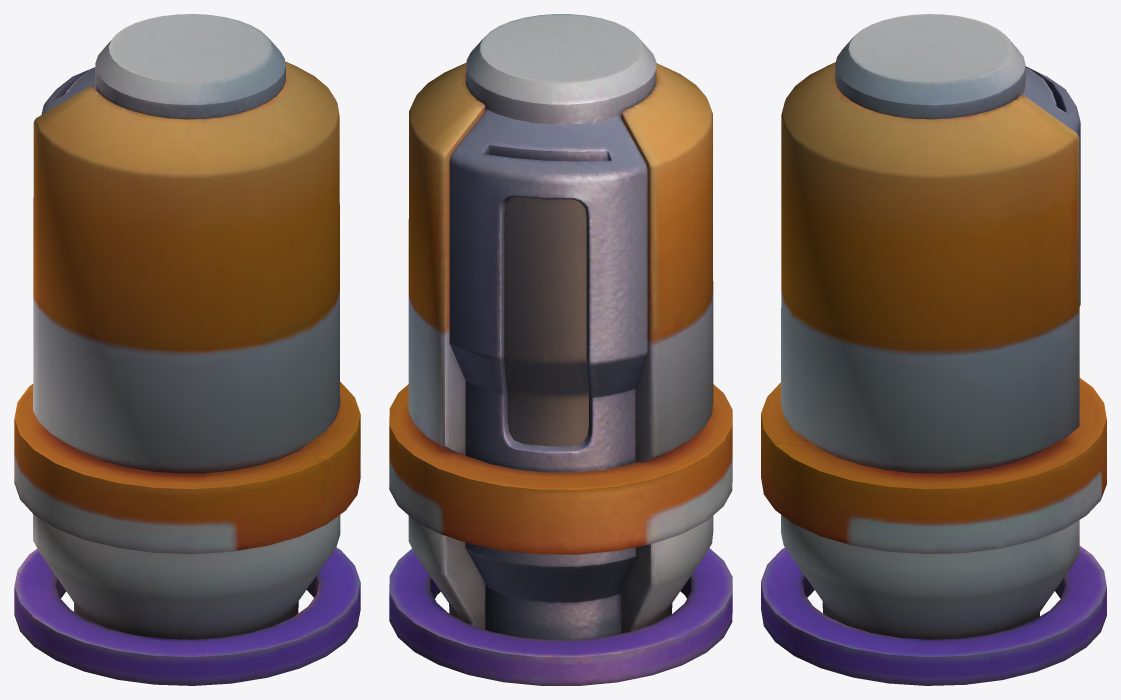
File: pref_sm_choujiangjiemian_mx02_lv0.fbx
3 views of the same model, side by side, from view 1: azimuth 30°, elevation 25°; view 2: azimuth 150°, elevation 25°; view 3: azimuth 270°, elevation 25° (orthographic).
Parts seen in each view (by area): view 1: pref_sm_choujiangjiemian_mx02_lv0; view 2: pref_sm_choujiangjiemian_mx02_lv0; view 3: pref_sm_choujiangjiemian_mx02_lv0.
Boxes of the visible parts, <box> form: pref_sm_choujiangjiemian_mx02_lv0: <box>14,14,360,685</box>; pref_sm_choujiangjiemian_mx02_lv0: <box>389,14,732,685</box>; pref_sm_choujiangjiemian_mx02_lv0: <box>761,14,1106,685</box>.
Bounding box in the file's own units: 1.1 × 2.06 × 1.1.
Materials: 1 (1 with a texture image).
